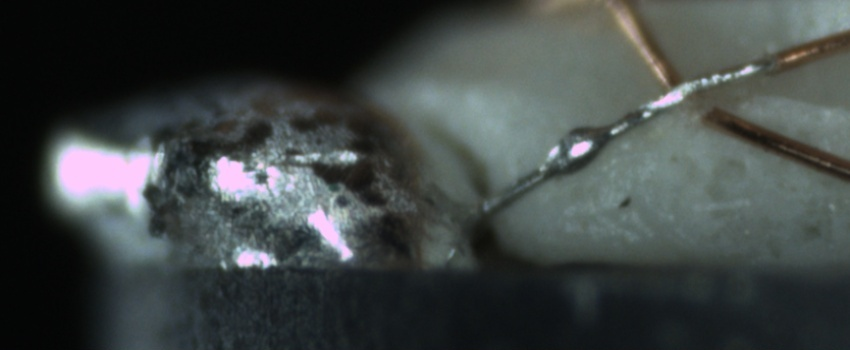CL: (650, 64, 738, 130)
TB: (541, 120, 611, 184)
TS: (480, 54, 774, 221)
TTCW: (480, 35, 830, 219)
